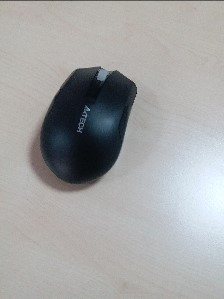mouse: (36, 63, 137, 186)
